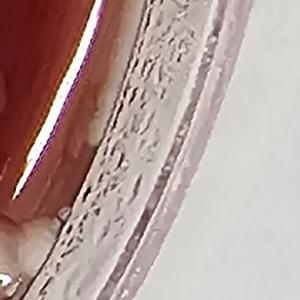colony: (15, 204, 74, 287), (0, 206, 26, 297)
